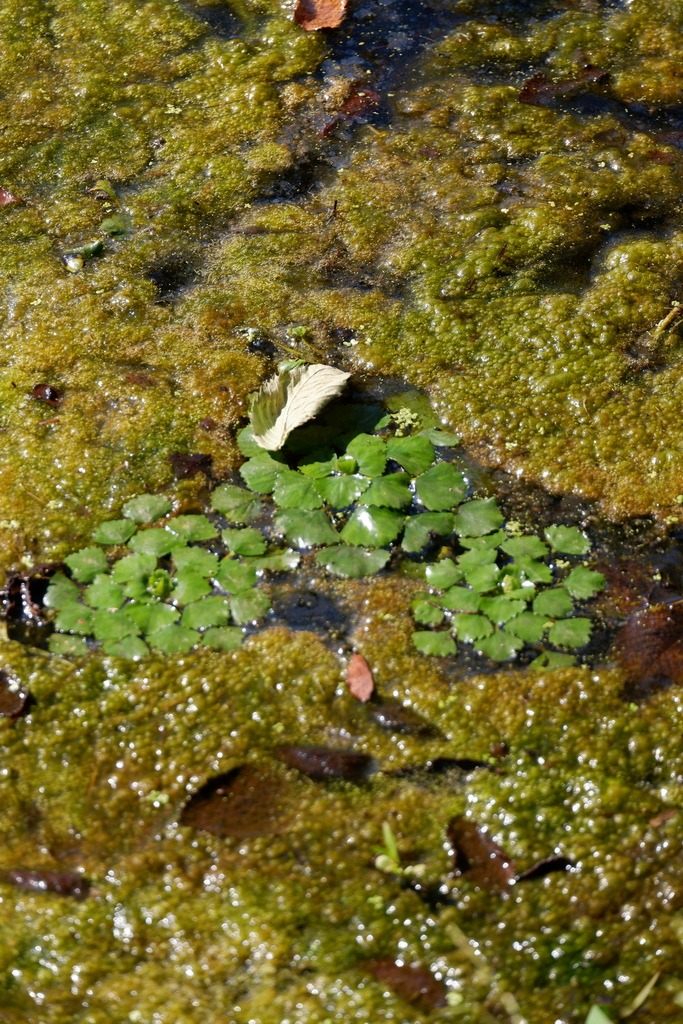water chestnut: (41, 359, 608, 673)
